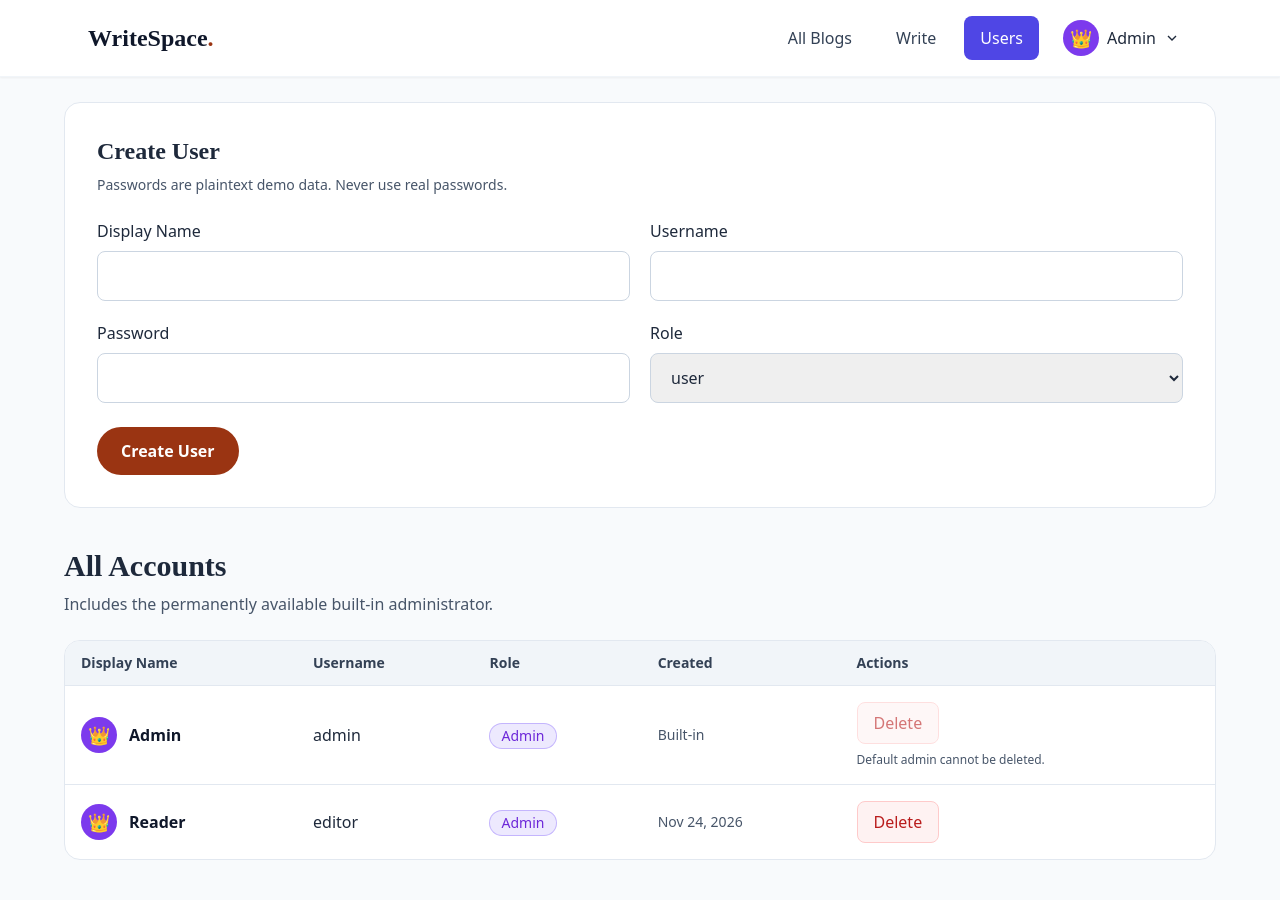
handles account confirmation=true and retains author writing with book avatar
(page scrolled)
Click the button "Delete" in the row of "Reader" at (898, 822), box x1=856 y1=801 x2=939 y2=843
(page scrolled)
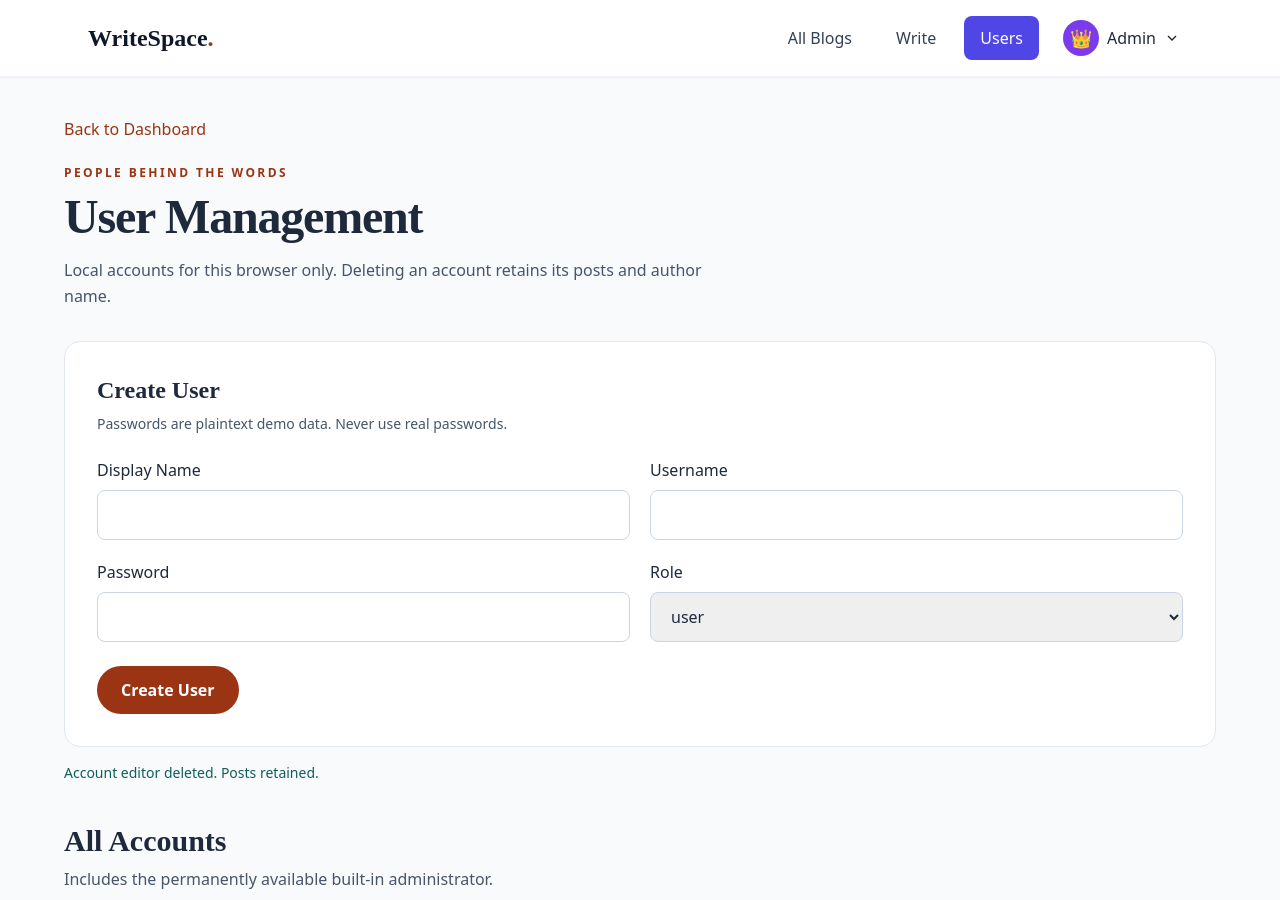
Click the link "Back to Dashboard" at (135, 129), box x1=64 y1=118 x2=206 y2=140
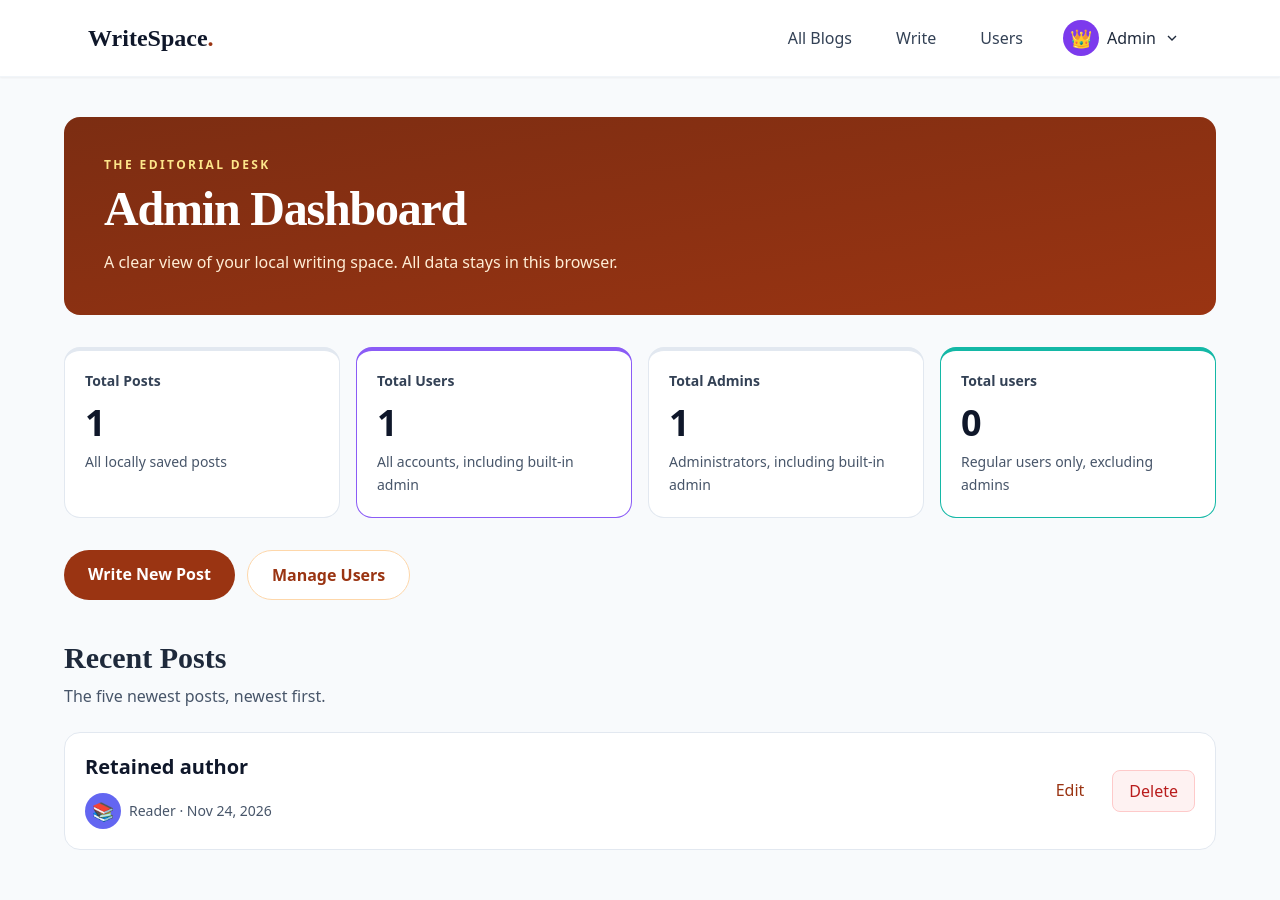
Expected: the picture named "user avatar" is shown, x1=85 y1=792 x2=121 y2=828
